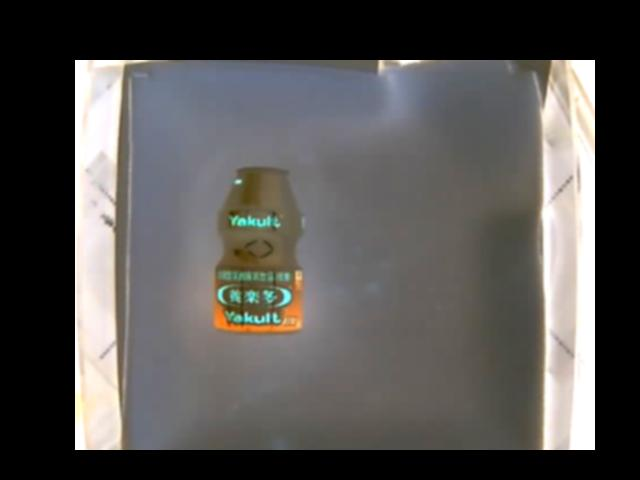Bottle: (215, 165, 301, 333)
